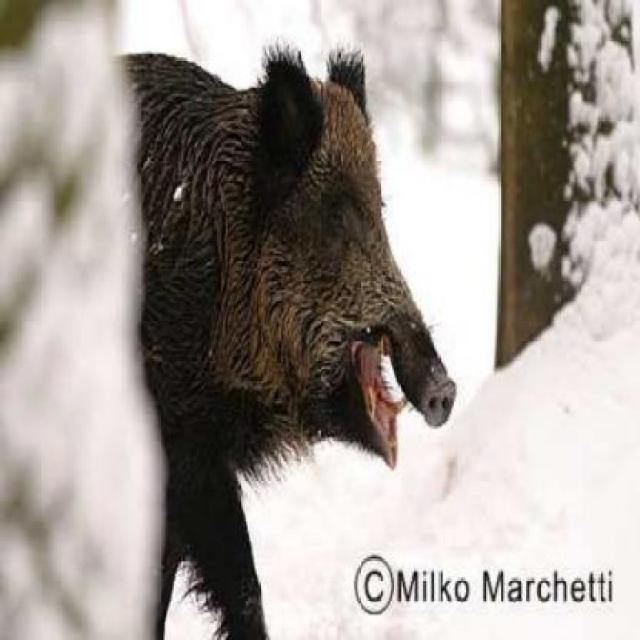pig: (62, 34, 483, 638)
